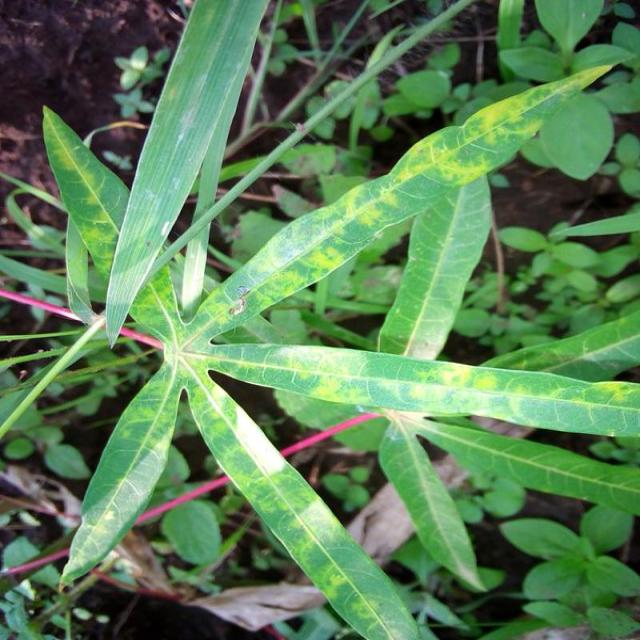cassava leaf: (41, 1, 639, 637), (104, 0, 271, 349)
